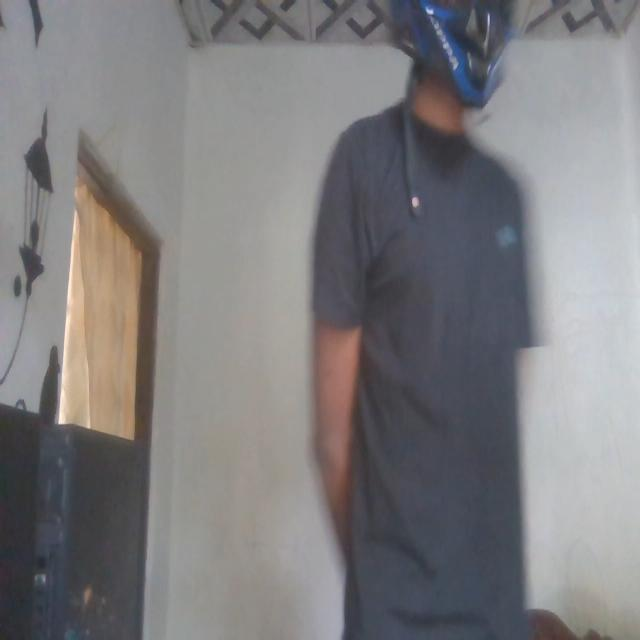Helmet_Wearer: (337, 0, 532, 142)
Person: (308, 0, 552, 640)
